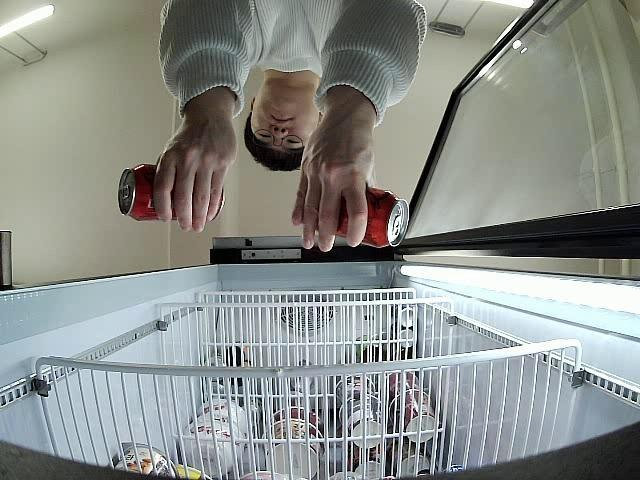11_cocaColaZero: (316, 177, 410, 248), (118, 163, 225, 223)
